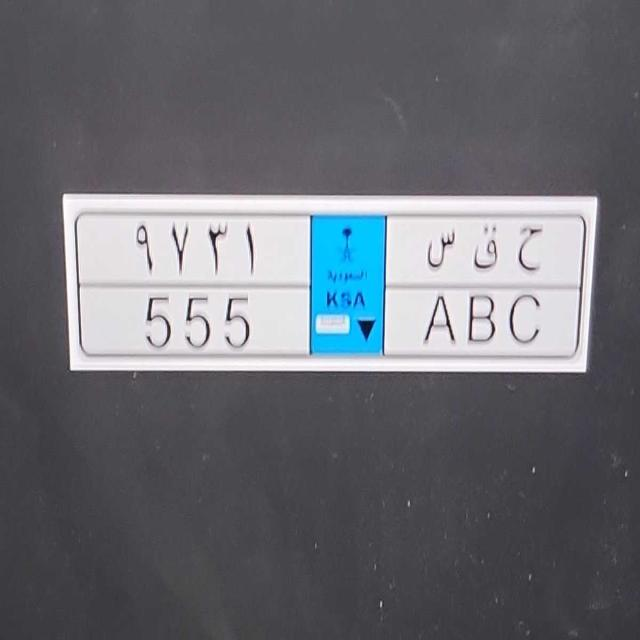license_plate: (89, 284, 568, 358)
